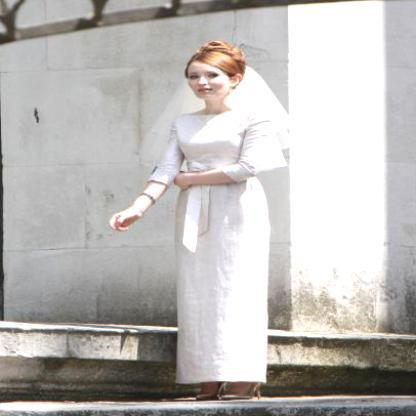person: (138, 40, 292, 412)
